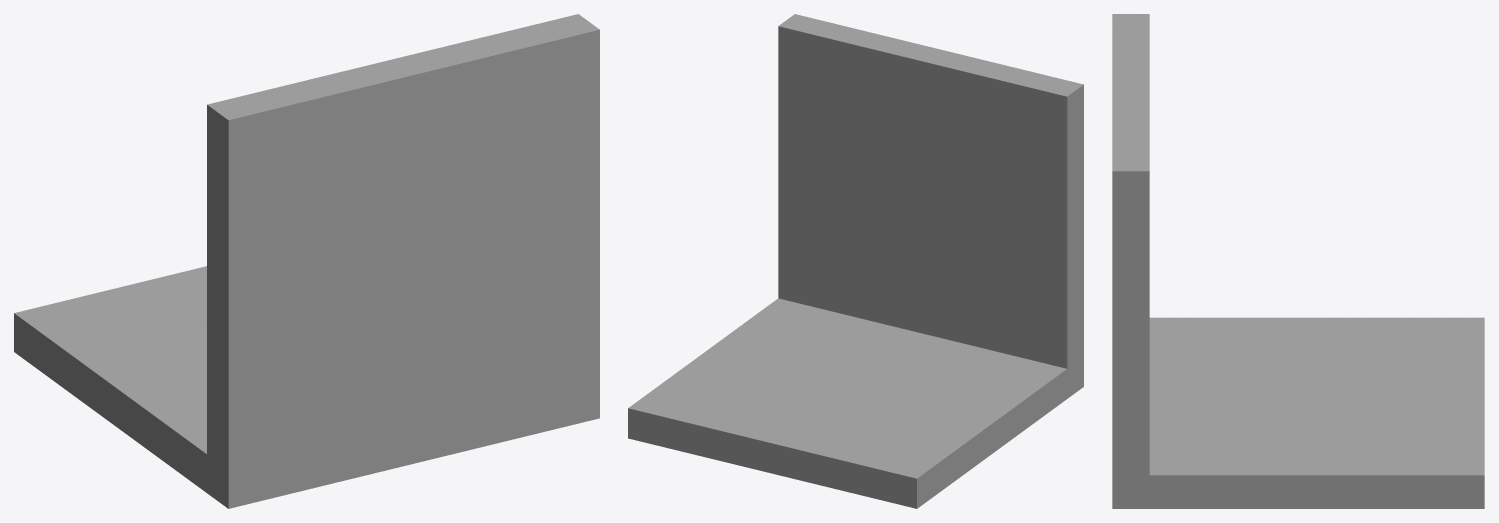
The model's file is LRT.obj.
The picture shows the model from 3 angles, left to right: view 1: azimuth 30°, elevation 25°; view 2: azimuth 150°, elevation 25°; view 3: azimuth 270°, elevation 25°; orthographic projection. The views are drawn at different scales.
Parts seen in each view (by area): view 1: LRT; view 2: LRT; view 3: LRT.
Boxes of the visible parts, <box> form: LRT: <box>14,14,599,508</box>; LRT: <box>628,14,1083,508</box>; LRT: <box>1112,14,1484,508</box>.
Size of the model in its own units: 10 by 10 by 10.
Materials: 1 (1 with a texture image).
